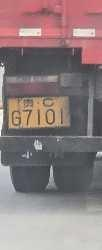License plate: (7, 96, 71, 130)
